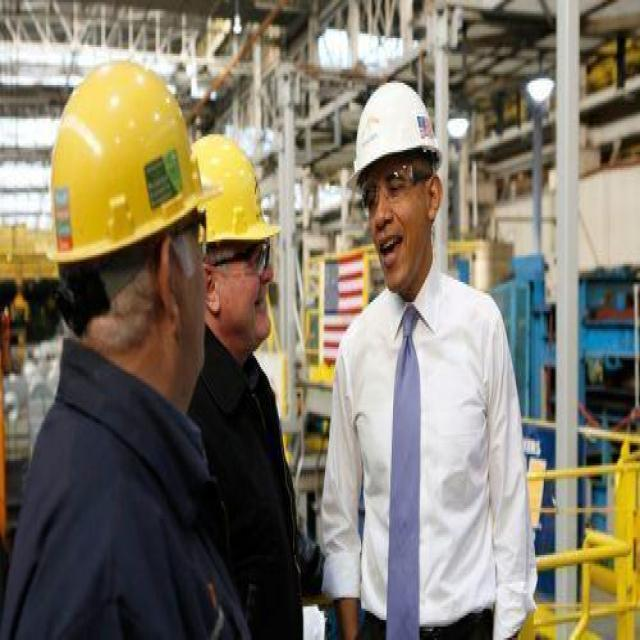white helmet: (345, 72, 452, 194)
yellow helmet: (42, 64, 228, 264), (194, 132, 290, 241)
